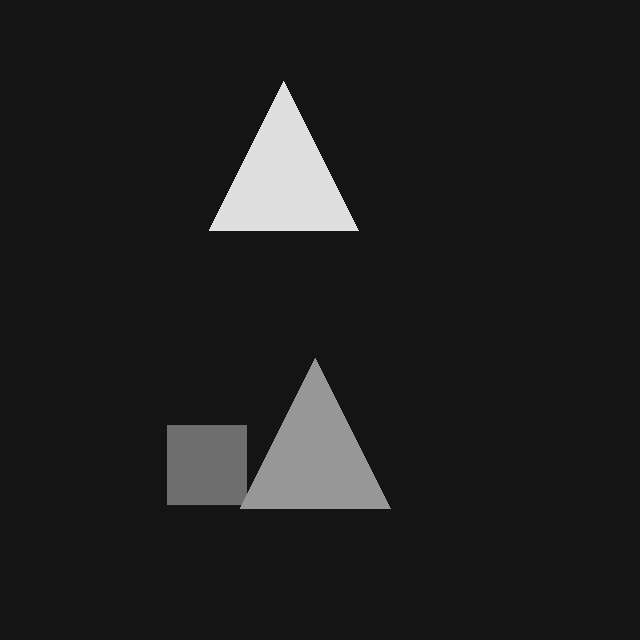square: (167, 425, 246, 504)
triangle: (240, 358, 390, 508), (209, 81, 358, 230)
